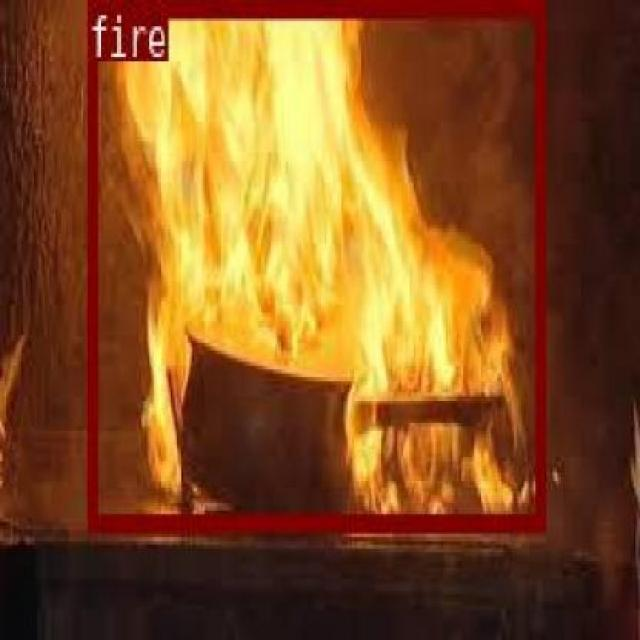Fire: (314, 264, 456, 529)
